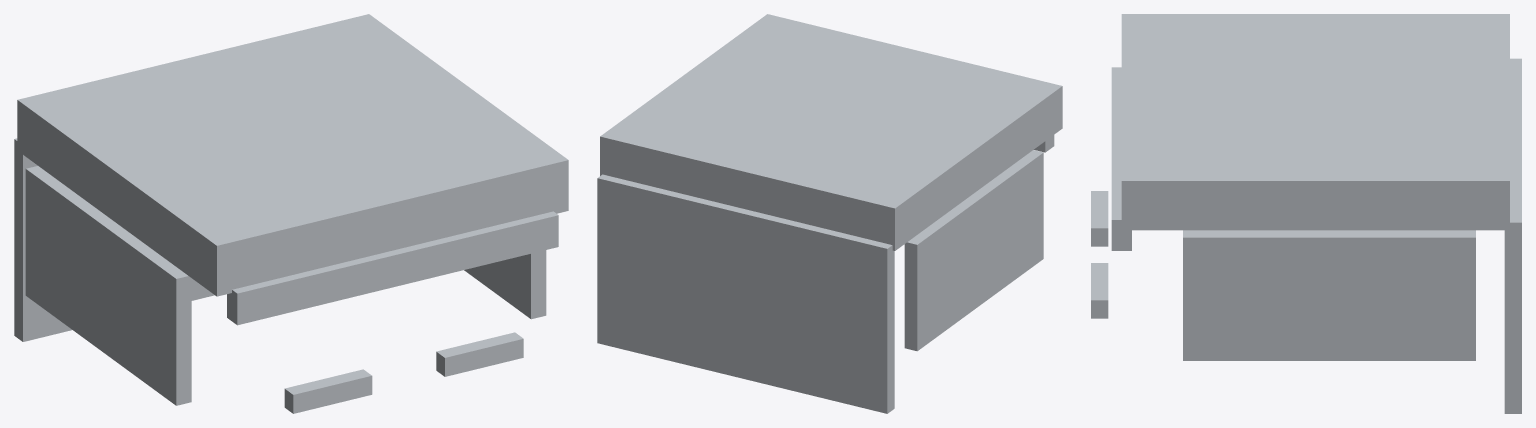
Rendered from npc_gear_hair_crop.fbx.
3 views of the same model, side by side, from view 1: azimuth 30°, elevation 25°; view 2: azimuth 150°, elevation 25°; view 3: azimuth 270°, elevation 25° (orthographic). The views are drawn at different scales.
Visible parts, largest first — view 1: npc_gear_hair_crop; view 2: npc_gear_hair_crop; view 3: npc_gear_hair_crop.
Part boxes in pixels (bbox=[...]): npc_gear_hair_crop: bbox=[14, 14, 568, 413]; npc_gear_hair_crop: bbox=[597, 14, 1062, 413]; npc_gear_hair_crop: bbox=[1091, 14, 1521, 413].
Size of the model in its own units: 122 by 76 by 127.
